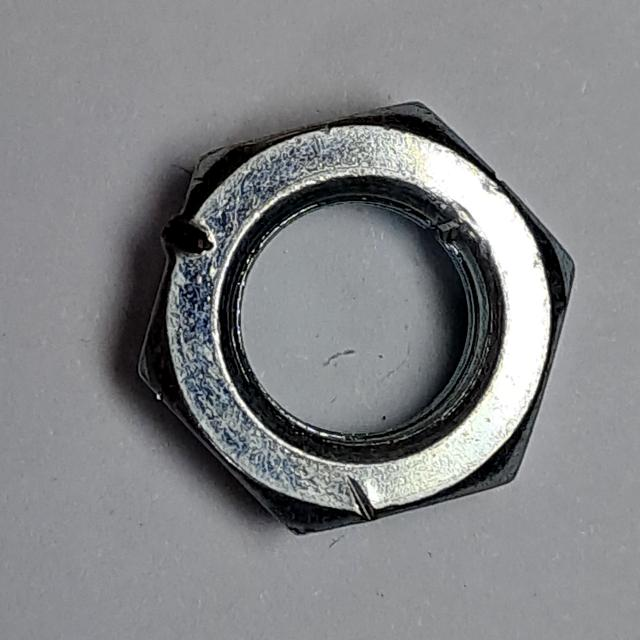Scratches: (124, 89, 592, 550)
